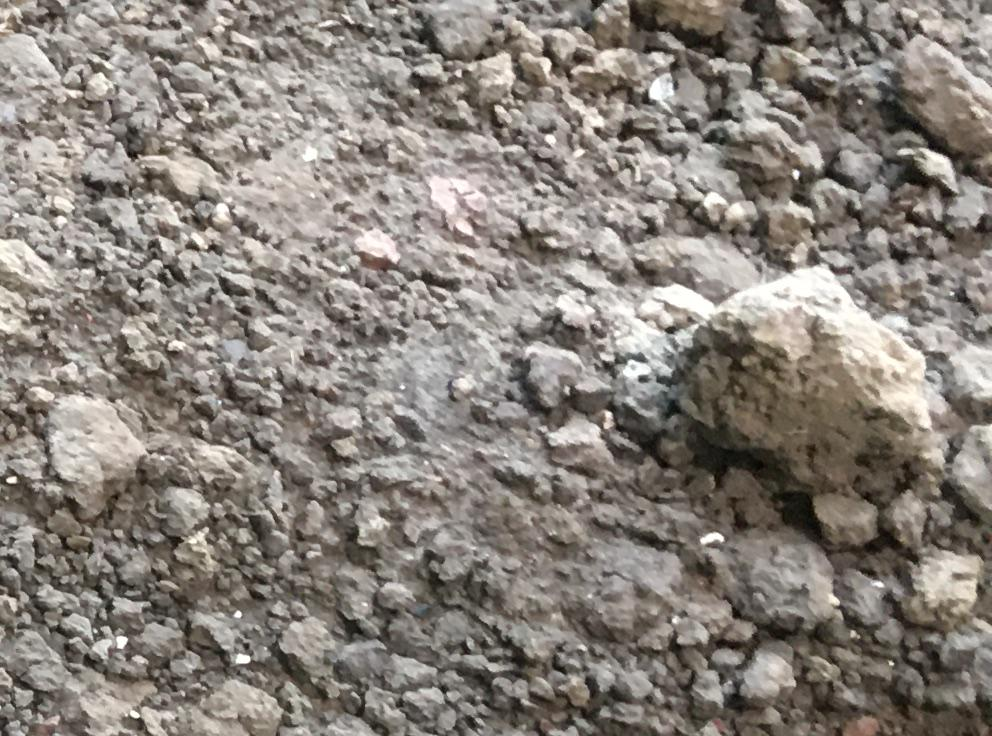block: (688, 264, 937, 503)
